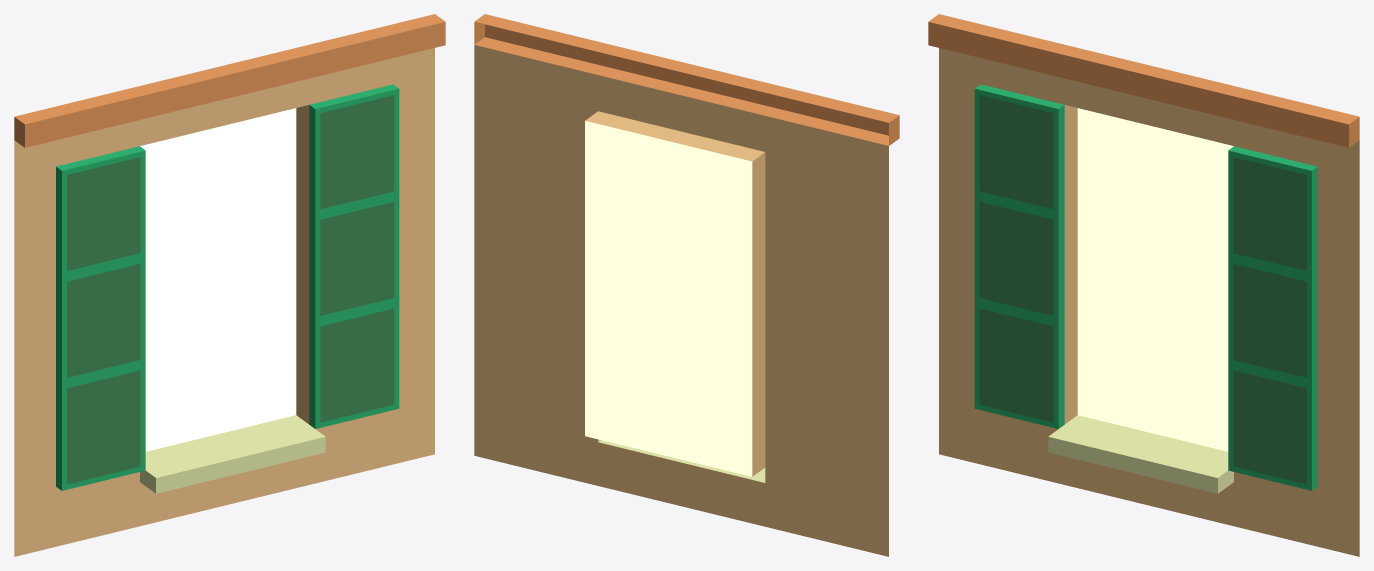
Rendered from WindowDoor.fbx.
3 views of the same model, side by side, from view 1: azimuth 30°, elevation 25°; view 2: azimuth 150°, elevation 25°; view 3: azimuth 330°, elevation 25° (orthographic).
Parts seen in each view (by area): view 1: WindowDoor; view 2: WindowDoor; view 3: WindowDoor.
Boxes of the visible parts, x1=… form: WindowDoor: x1=14, y1=14, x2=445, y2=556; WindowDoor: x1=474, y1=14, x2=899, y2=556; WindowDoor: x1=928, y1=14, x2=1359, y2=556.
Bounding box in the file's own units: 200 × 200 × 24.24.
